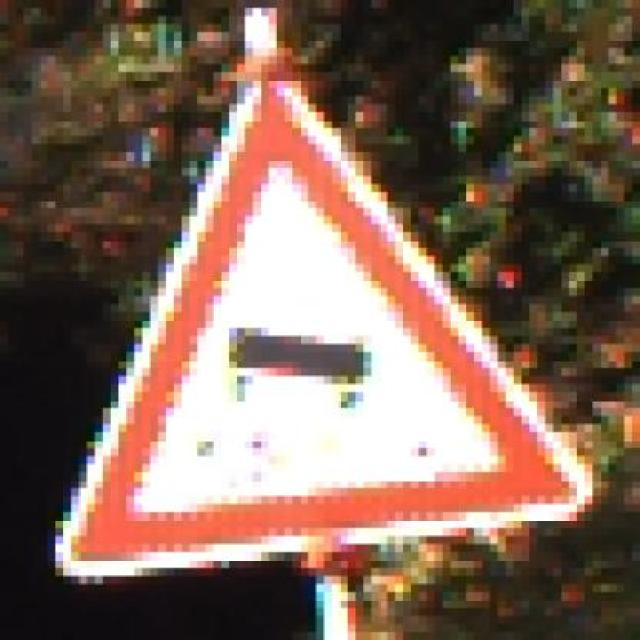Slippery Road Ahead: (39, 88, 593, 584)
